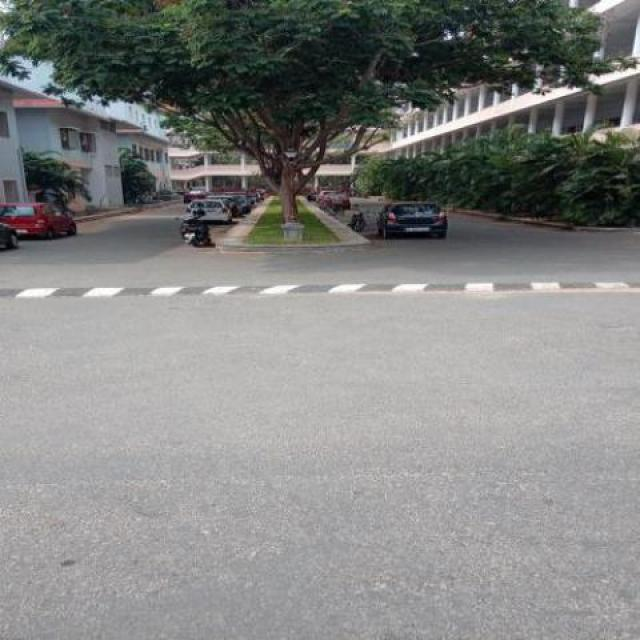Speed Bump: (0, 281, 639, 300)
